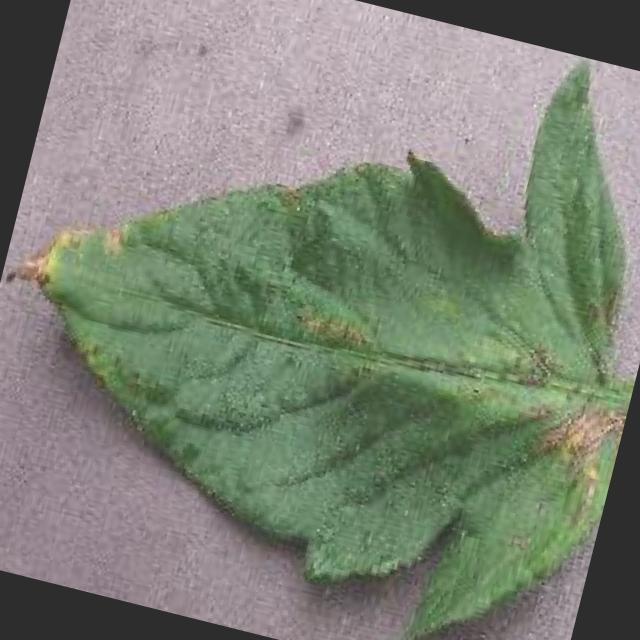bacterial spot: (6, 56, 636, 640)
